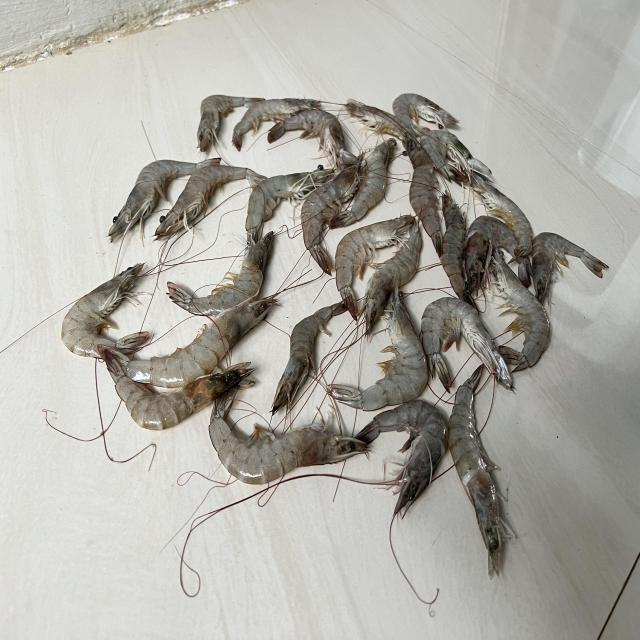shrimp: (123, 296, 277, 388), (208, 400, 369, 485), (97, 345, 252, 430), (327, 287, 428, 411), (449, 365, 505, 578), (357, 399, 448, 517), (108, 157, 220, 245), (167, 231, 274, 316), (422, 297, 514, 392), (272, 301, 347, 415), (154, 163, 266, 239), (335, 214, 415, 320), (61, 263, 149, 358), (490, 250, 552, 370), (363, 221, 423, 334), (301, 163, 361, 275), (246, 168, 334, 243), (330, 137, 397, 227), (472, 172, 534, 265), (533, 232, 610, 305), (268, 108, 358, 169), (232, 97, 321, 150), (403, 138, 443, 255), (442, 190, 478, 309), (466, 215, 518, 295), (420, 129, 492, 183), (197, 94, 264, 151), (345, 98, 417, 140), (392, 93, 459, 137)
